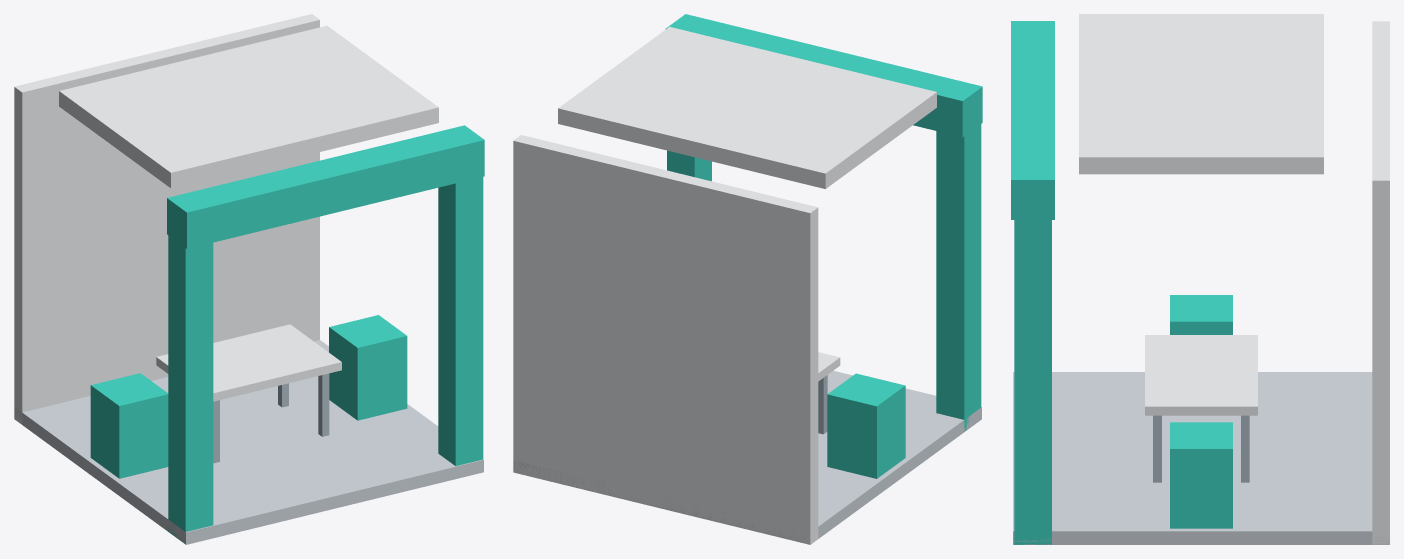
3 views of the same model, side by side, from view 1: azimuth 30°, elevation 25°; view 2: azimuth 150°, elevation 25°; view 3: azimuth 270°, elevation 25° (orthographic). The views are drawn at different scales.
Visible parts, largest first — view 1: Exhibition Booth Concept; view 2: Exhibition Booth Concept; view 3: Exhibition Booth Concept.
Boxes of the visible parts, x1,y1,x2,y2 form: Exhibition Booth Concept: [14, 14, 484, 544]; Exhibition Booth Concept: [513, 14, 982, 544]; Exhibition Booth Concept: [1011, 14, 1389, 544].
Bounding box in the file's own units: 3 × 3.34 × 3.01.
